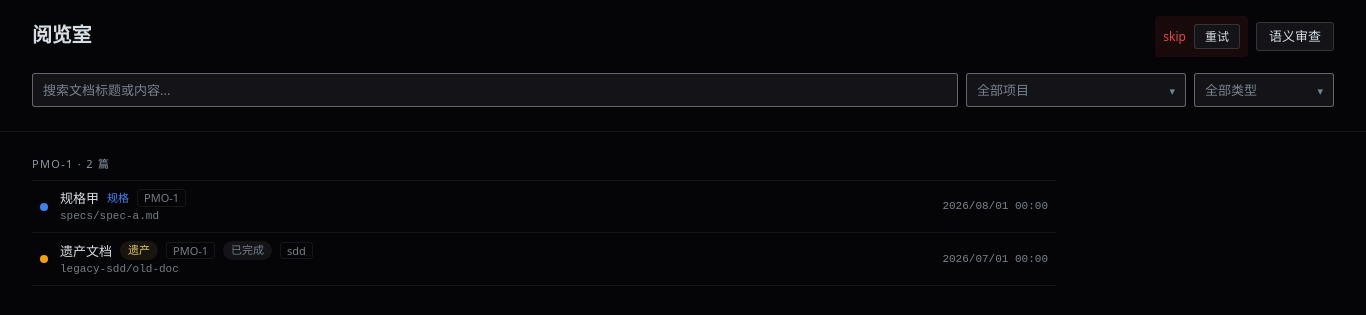
Scenario: LibraryPage（#155 T5 阅览室） › #436 B11 密度与类型筛选 › 类型筛选回到「全部类型」后恢复全量
Expected: the text "规格甲" is shown, [60,189,99,207]
Click the button with aria-label "类型筛选".
click(1264, 90)  # box [1194,73,1334,107]
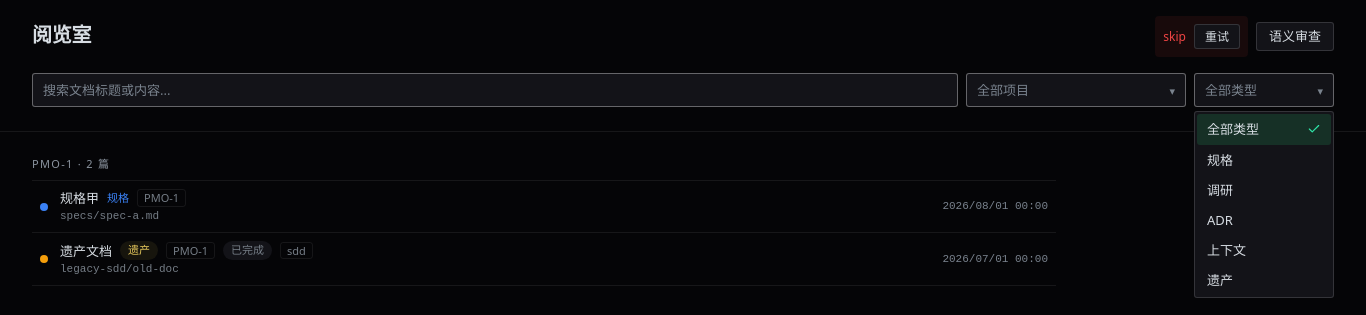
Click the option "遗产".
click(1220, 280)  # box [1207,271,1233,289]
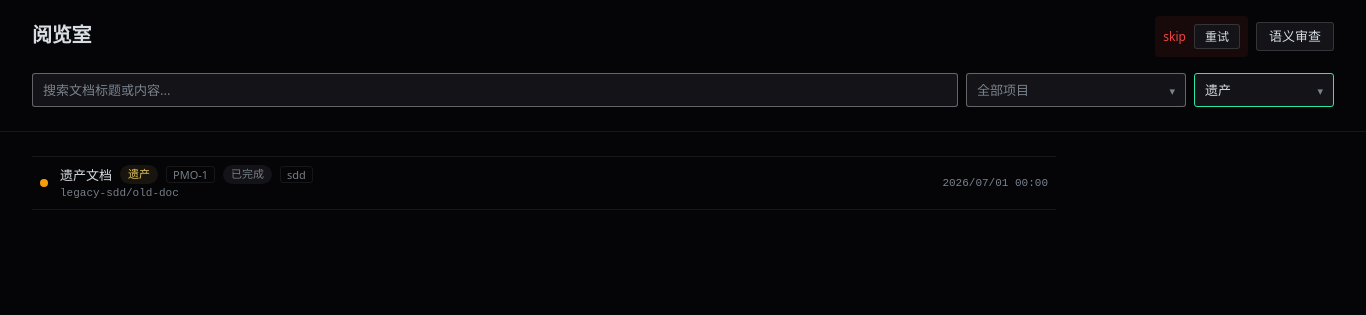
Result: the link "规格甲" is gone
Click the button with aria-label "类型筛选".
click(1264, 90)  # box [1194,73,1334,107]
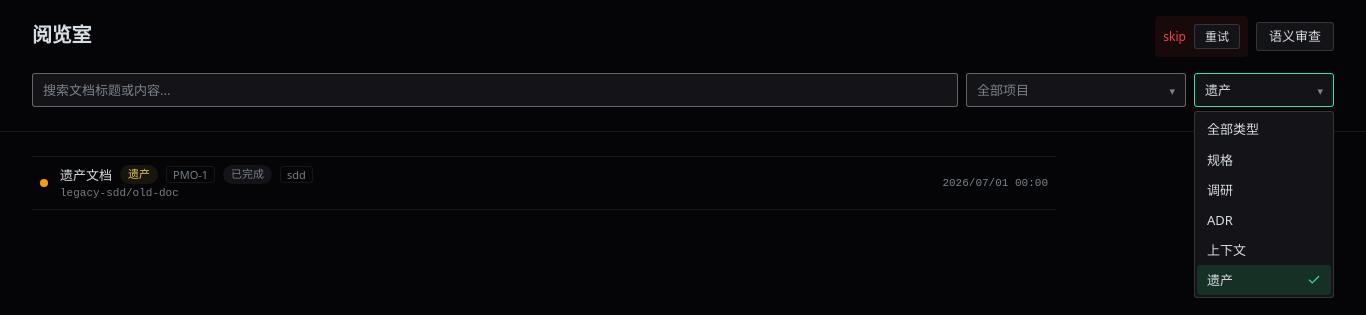
Click the option "全部类型".
click(1233, 129)  # box [1207,120,1259,138]
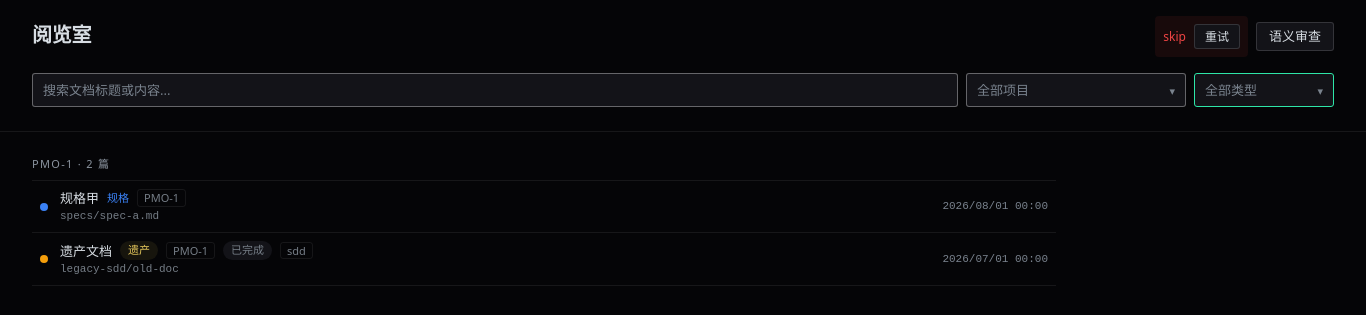
Result: the text "规格甲" is shown at [60,189,99,207]
